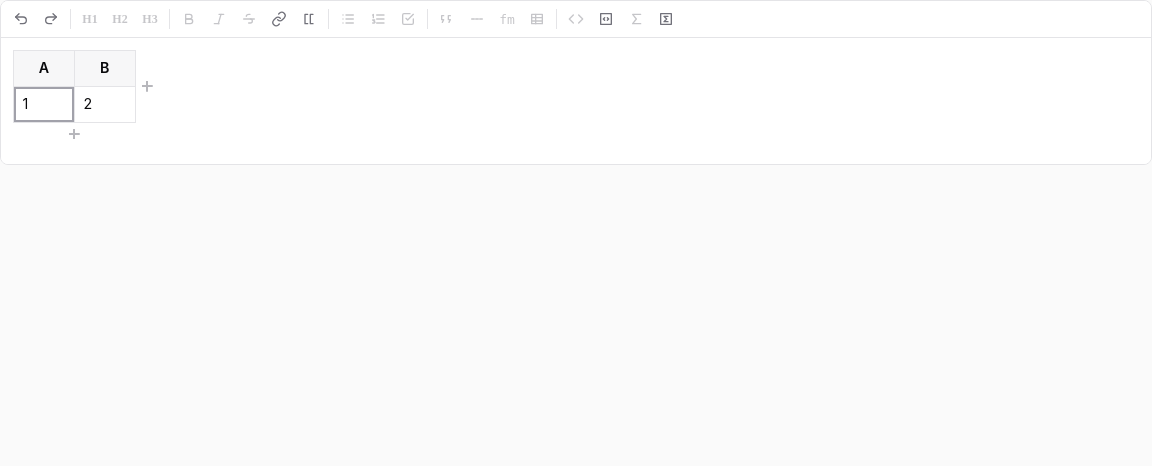
right-click on a word in a cell with no selection auto-selects it and adds Format
The image size is (1152, 466).
Right-click the cell "1": (44, 104) [14,86,74,122]
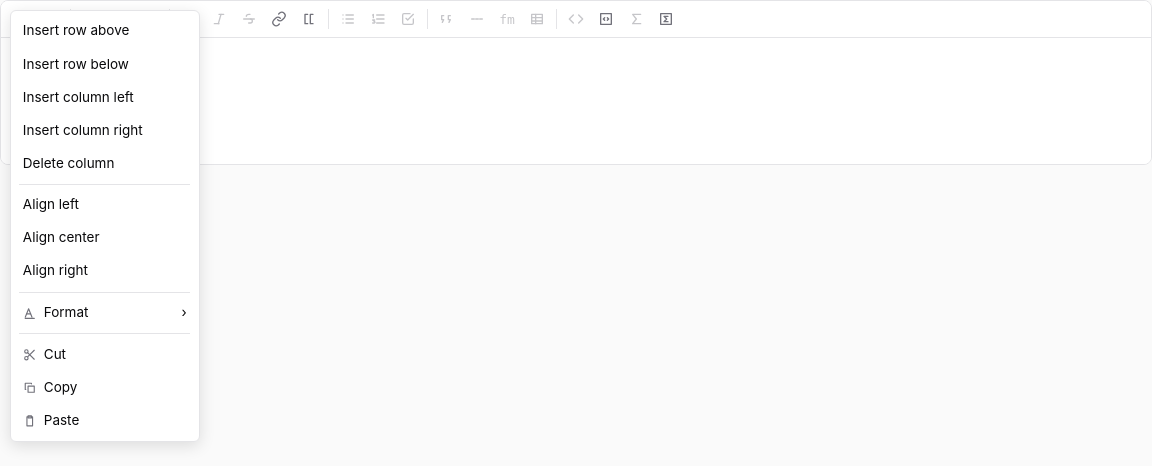
Expected: the text "Insert row above" is shown, [23,20,129,43]
Expected: the text "Format" is shown, [44,301,88,325]
